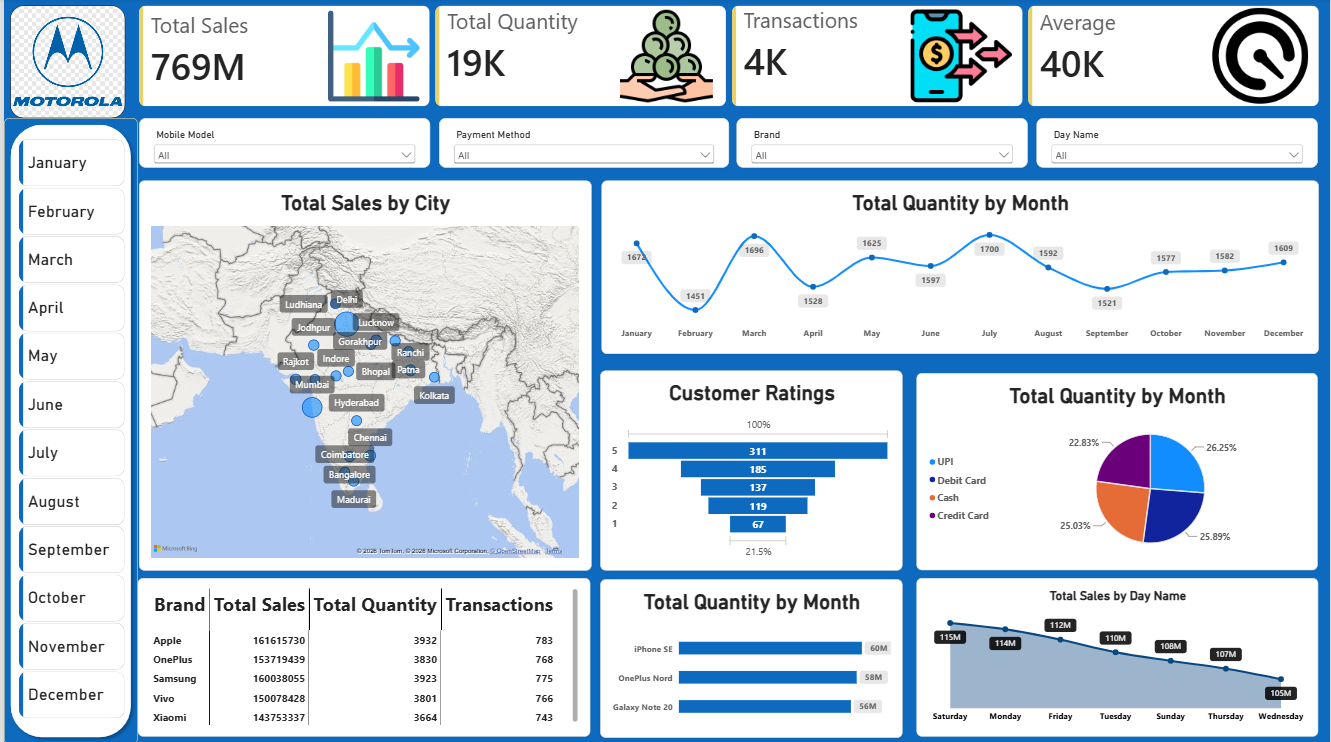

This screenshot's page, from the dashboard's own definition file:
{"tool":"powerbi","page":{"name":"Page 1","canvas":[1920,1080],"ordinal":0},"visuals":[{"type":"image","box":[9,10.9,166.5,162.9],"z":0},{"type":"shape","box":[0,173.7,193.6,906.6],"z":1000},{"type":"advancedSlicerVisual","fields":{"Values":["Sales_Data.Date.Variation.Date Hierarchy.Month"]},"box":[21.7,204.5,153.8,846.9],"z":2000},{"type":"cardVisual","fields":{"Data":["Sales_Data.Total Sales","Sales_Data.Total Quantity","Sales_Data.Transactions","Sales_Data.Average"]},"box":[195.4,10.9,1708.3,146.6],"z":3000},{"type":"map","title":"Total Sales by City","fields":{"Category":["Sales_Data.City"],"Size":["Sales_Data.Total Sales"]},"box":[195.4,264.2,655.1,564.6],"z":4000},{"type":"lineChart","title":"Total Quantity by Month","fields":{"Y":["Sales_Data.Total Quantity"],"Category":["Sales_Data.Date.Variation.Date Hierarchy.Month","Sales_Data.Date.Variation.Date Hierarchy.Day"]},"box":[865,264.2,1038.7,251.5],"z":5000},{"type":"clusteredBarChart","title":"Total Quantity by Month","fields":{"Category":["Sales_Data.Mobile Model"],"Y":["Sales_Data.Total Sales"]},"box":[863.2,841.5,437.9,229.8],"z":6000},{"type":"pieChart","title":"Total Quantity by Month","fields":{"Category":["Sales_Data.Payment Method"],"Y":["Sales_Data.Transactions"]},"box":[1321.1,542.9,580.9,285.9],"z":7000},{"type":"funnel","title":"Customer Ratings","fields":{"Category":["Sales_Data.Customer Ratings"],"Y":["CountNonNull(Sales_Data.Customer Ratings)"]},"box":[863.2,539.3,437.9,289.5],"z":8000},{"type":"areaChart","title":"Total Sales by Day Name","fields":{"Category":["Sales_Data.Day Name"],"Y":["Sales_Data.Total Sales"]},"box":[1320.3,839.2,581.8,229.4],"z":8001},{"type":"tableEx","fields":{"Values":["Sales_Data.Brand","Sales_Data.Total Sales","Sales_Data.Total Quantity","Sales_Data.Transactions"]},"box":[193.6,839.7,655.1,229.8],"z":8002},{"type":"slicer","fields":{"Values":["Sales_Data.Mobile Model"]},"box":[195.4,173.7,421.7,72.4],"z":8003},{"type":"slicer","fields":{"Values":["Sales_Data.Payment Method"]},"box":[629.8,173.7,419.8,72.4],"z":8004},{"type":"slicer","fields":{"Values":["Sales_Data.Brand"]},"box":[1060.5,173.7,421.7,72.4],"z":8005},{"type":"slicer","fields":{"Values":["Sales_Data.Day Name"]},"box":[1494.8,173.7,407.2,72.4],"z":8006}]}

Visuals, with their boxes in screenshot pixels (x1, y1, x2, y2), scaled from the page's 1920x1080 canvas onto the 1331x742 screenshot:
image: <bbox>6, 7, 122, 119</bbox>
shape: <bbox>0, 119, 134, 741</bbox>
advancedSlicerVisual - Sales_Data.Date.Variation.Date Hierarchy.Month: <bbox>15, 140, 122, 722</bbox>
cardVisual - Sales_Data.Total Sales x Sales_Data.Total Quantity: <bbox>135, 7, 1320, 108</bbox>
"Total Sales by City" map: <bbox>135, 182, 590, 569</bbox>
"Total Quantity by Month" lineChart: <bbox>600, 182, 1320, 354</bbox>
"Total Quantity by Month" clusteredBarChart: <bbox>598, 578, 902, 736</bbox>
"Total Quantity by Month" pieChart: <bbox>916, 373, 1319, 569</bbox>
"Customer Ratings" funnel: <bbox>598, 371, 902, 569</bbox>
"Total Sales by Day Name" areaChart: <bbox>915, 577, 1319, 734</bbox>
tableEx - Sales_Data.Brand x Sales_Data.Total Sales: <bbox>134, 577, 588, 735</bbox>
slicer - Sales_Data.Mobile Model: <bbox>135, 119, 428, 169</bbox>
slicer - Sales_Data.Payment Method: <bbox>437, 119, 728, 169</bbox>
slicer - Sales_Data.Brand: <bbox>735, 119, 1028, 169</bbox>
slicer - Sales_Data.Day Name: <bbox>1036, 119, 1319, 169</bbox>
